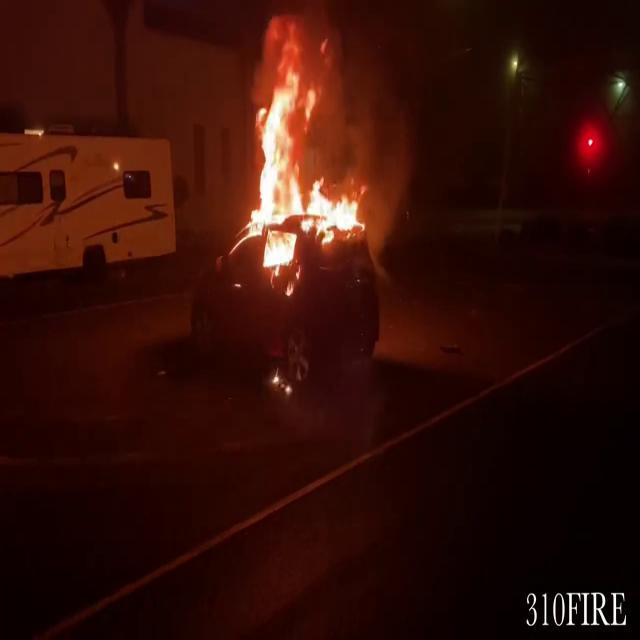Fire: (234, 31, 368, 258)
